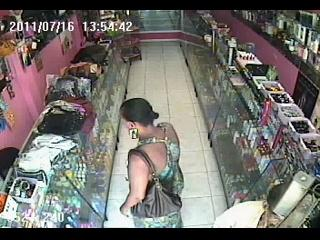Normal: (118, 98, 185, 227)
